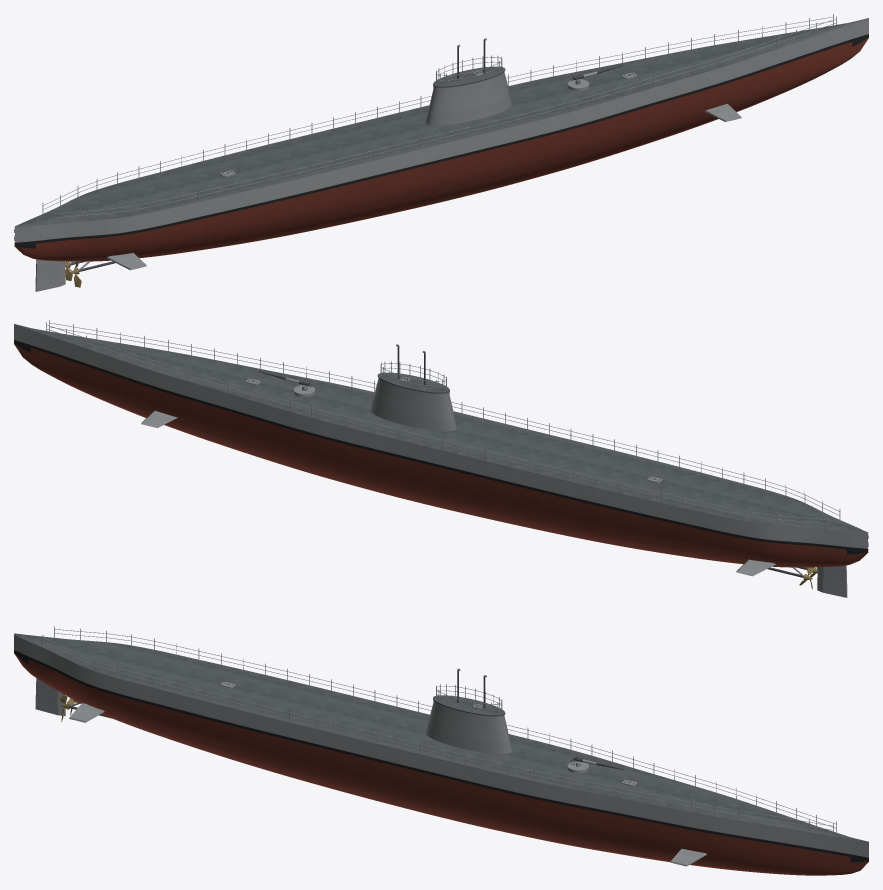
Rendered from wolf_typ7.glb.
3 views of the same model, one above another, from view 1: azimuth 30°, elevation 25°; view 2: azimuth 150°, elevation 25°; view 3: azimuth 330°, elevation 25° (orthographic).
Visible parts, largest first — view 1: Wolf; view 2: Wolf; view 3: Wolf.
Boxes of the visible parts, x1,y1,x2,y2 form: Wolf: (14,14,868,291); Wolf: (14,320,868,597); Wolf: (14,626,868,875).
Size of the model in its own units: 78 by 12.9 by 9.7.
6 materials, 6 textured.
